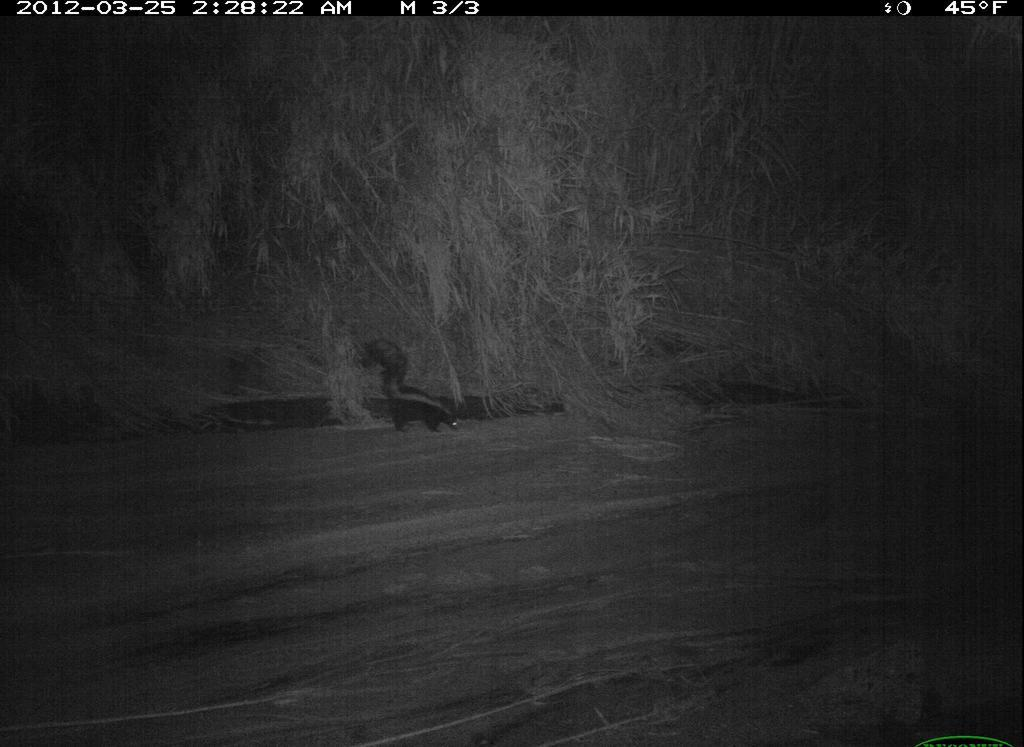skunk: (355, 324, 473, 450)
